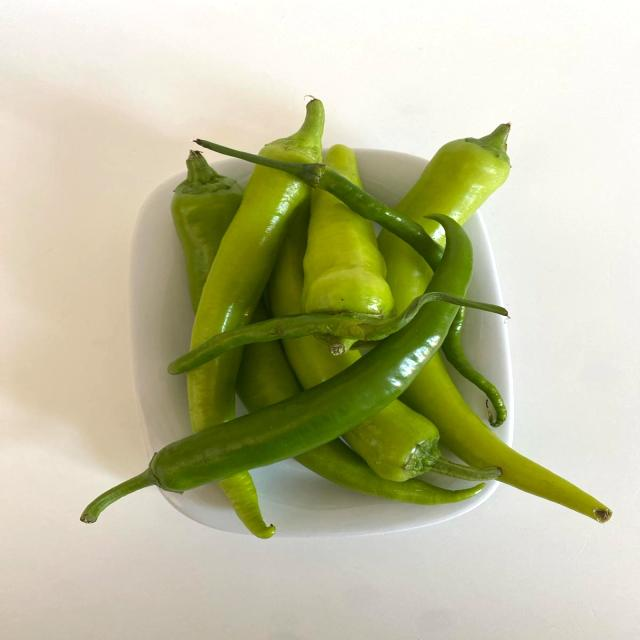green pepper: (85, 208, 478, 540), (157, 93, 344, 534)
